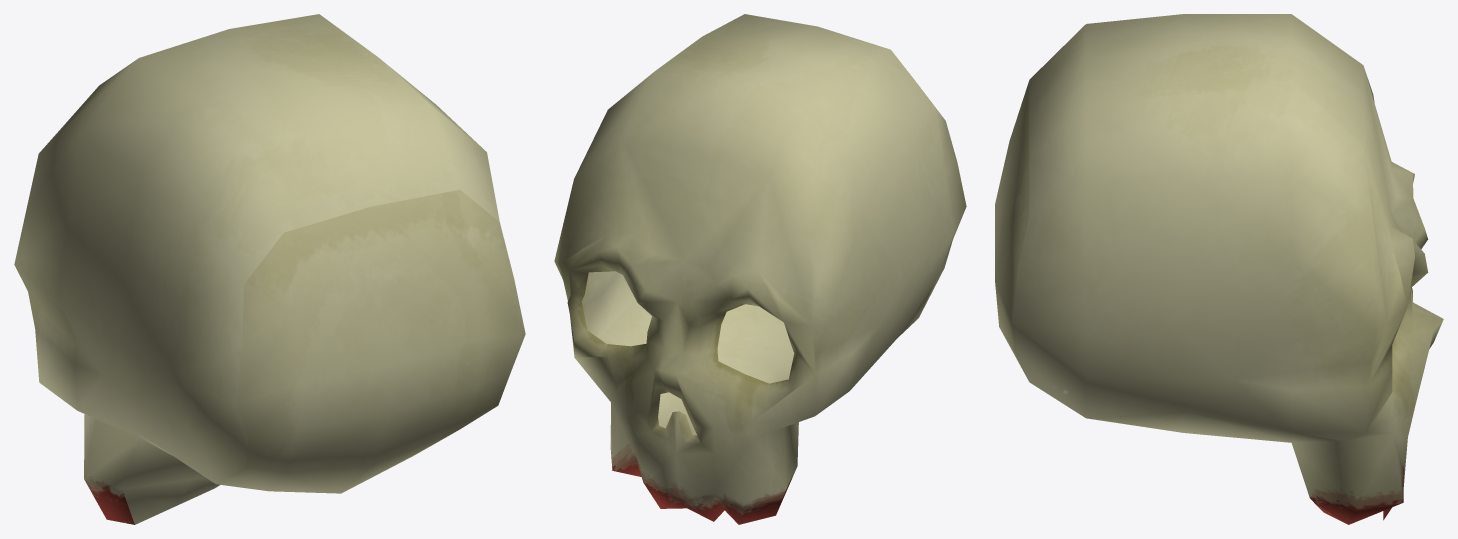
Rendered from Skull-2.fbx.
3 renders of one model, left to right at view 1: azimuth 30°, elevation 25°; view 2: azimuth 150°, elevation 25°; view 3: azimuth 270°, elevation 25°, orthographic. The views are drawn at different scales.
Parts seen in each view (by area): view 1: Cube.001; view 2: Cube.001; view 3: Cube.001.
Boxes of the visible parts, bbox=[...] form: Cube.001: bbox=[14, 14, 525, 524]; Cube.001: bbox=[554, 14, 966, 524]; Cube.001: bbox=[995, 14, 1443, 524].
Size of the model in its own units: 246 by 341 by 303.
